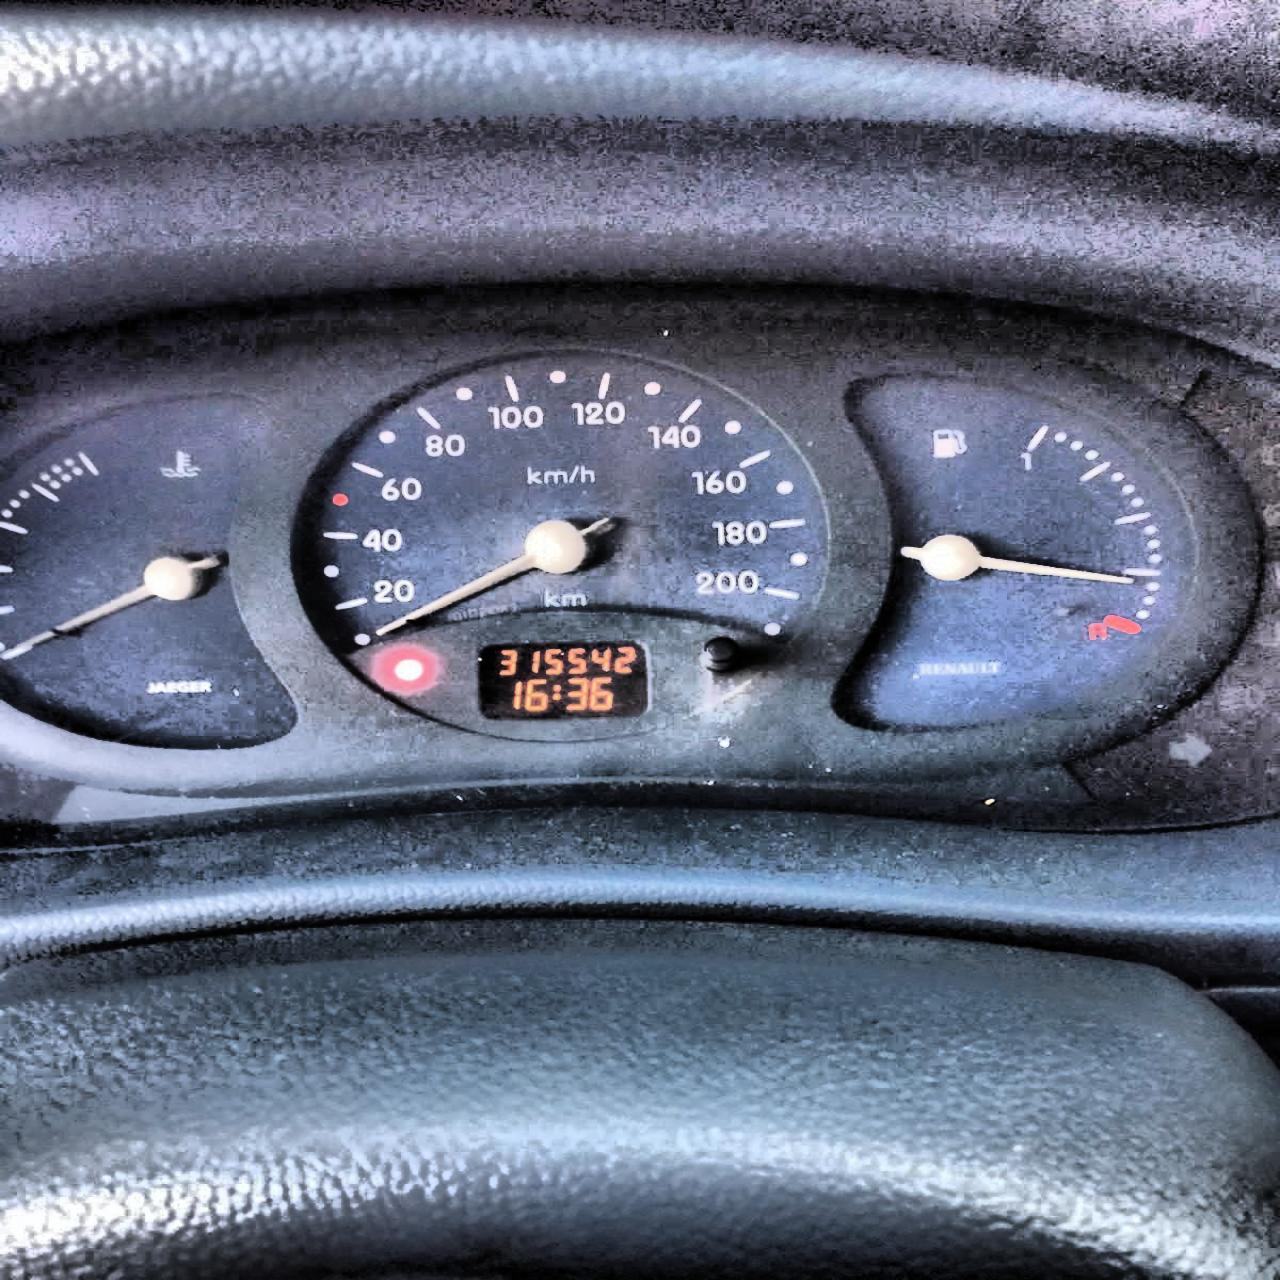1: (511, 680, 522, 710), (530, 649, 539, 674)
2: (613, 646, 634, 672)
3: (564, 676, 587, 709), (497, 648, 516, 675)
4: (591, 648, 610, 670)
5: (543, 647, 564, 674), (567, 647, 586, 673)
6: (587, 676, 612, 709), (524, 678, 547, 712)
X: (552, 685, 561, 700)
odometer: (472, 638, 653, 722)
